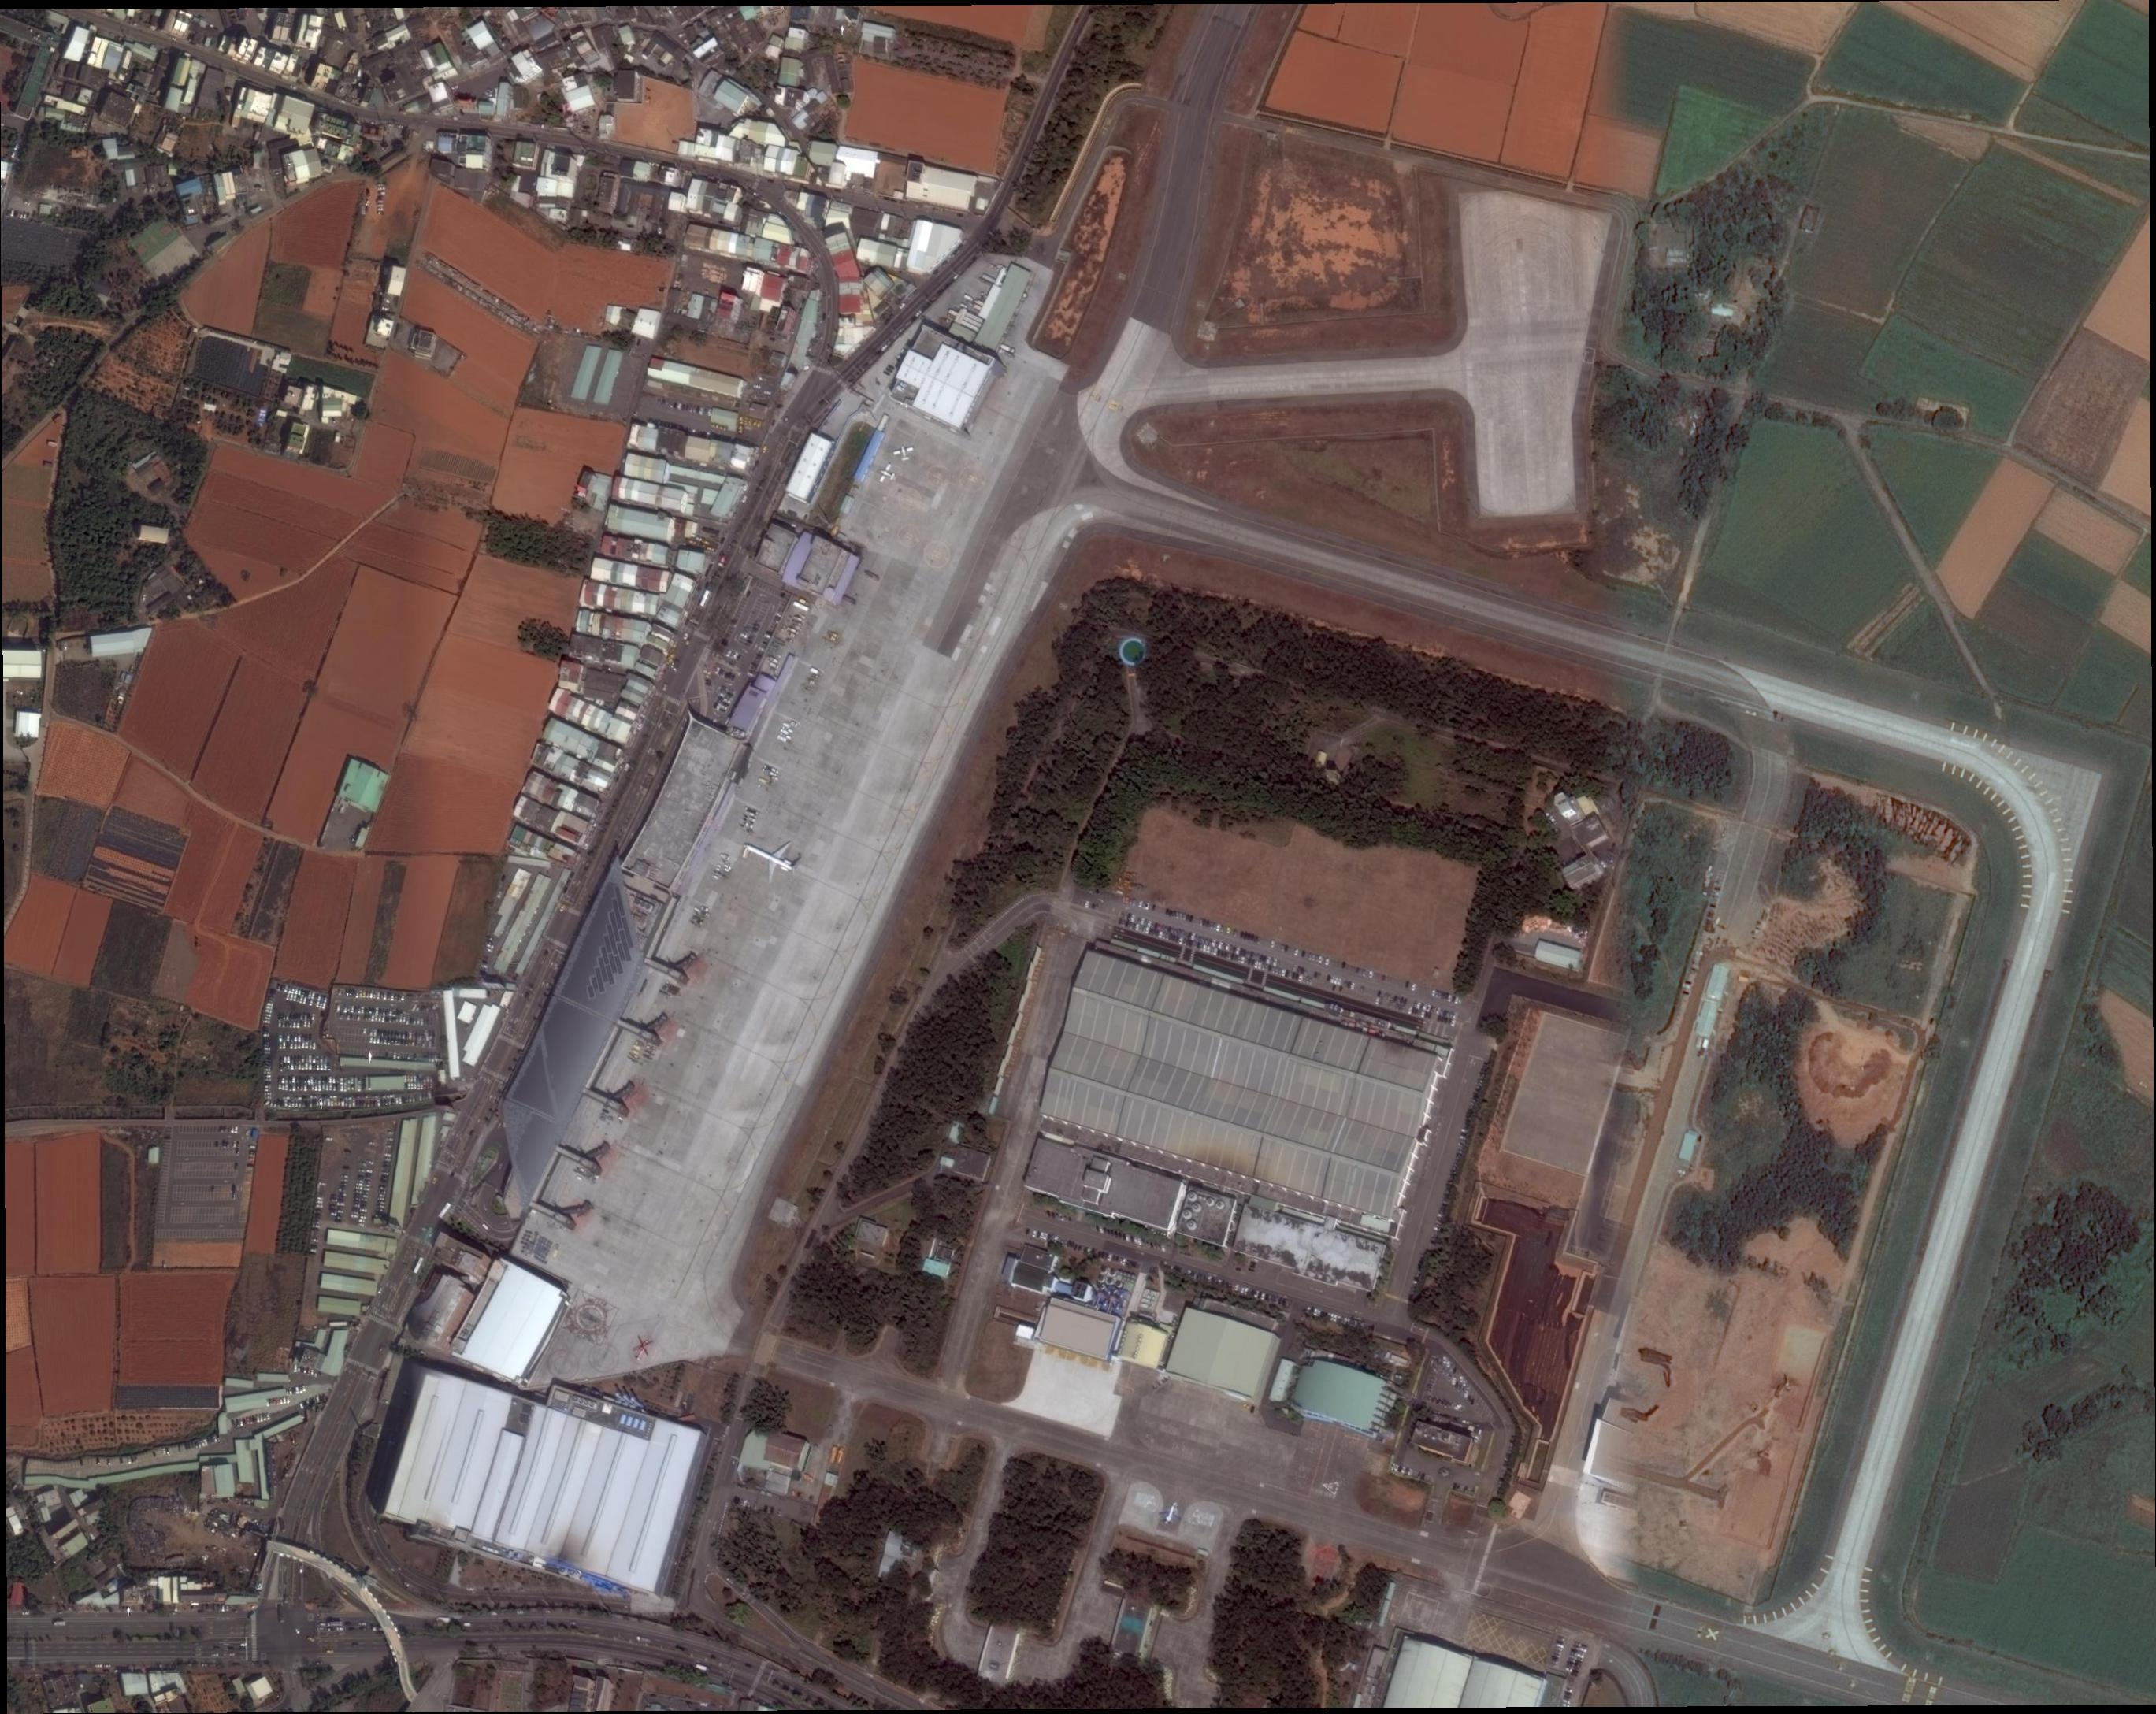plane: (733, 825, 807, 895), (1157, 1500, 1188, 1532), (875, 462, 899, 488), (893, 445, 915, 464)
